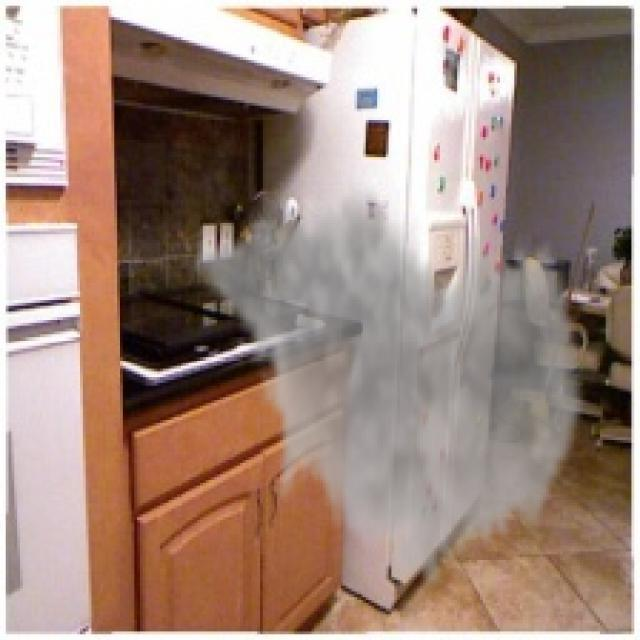Smoke: (188, 174, 588, 597)
